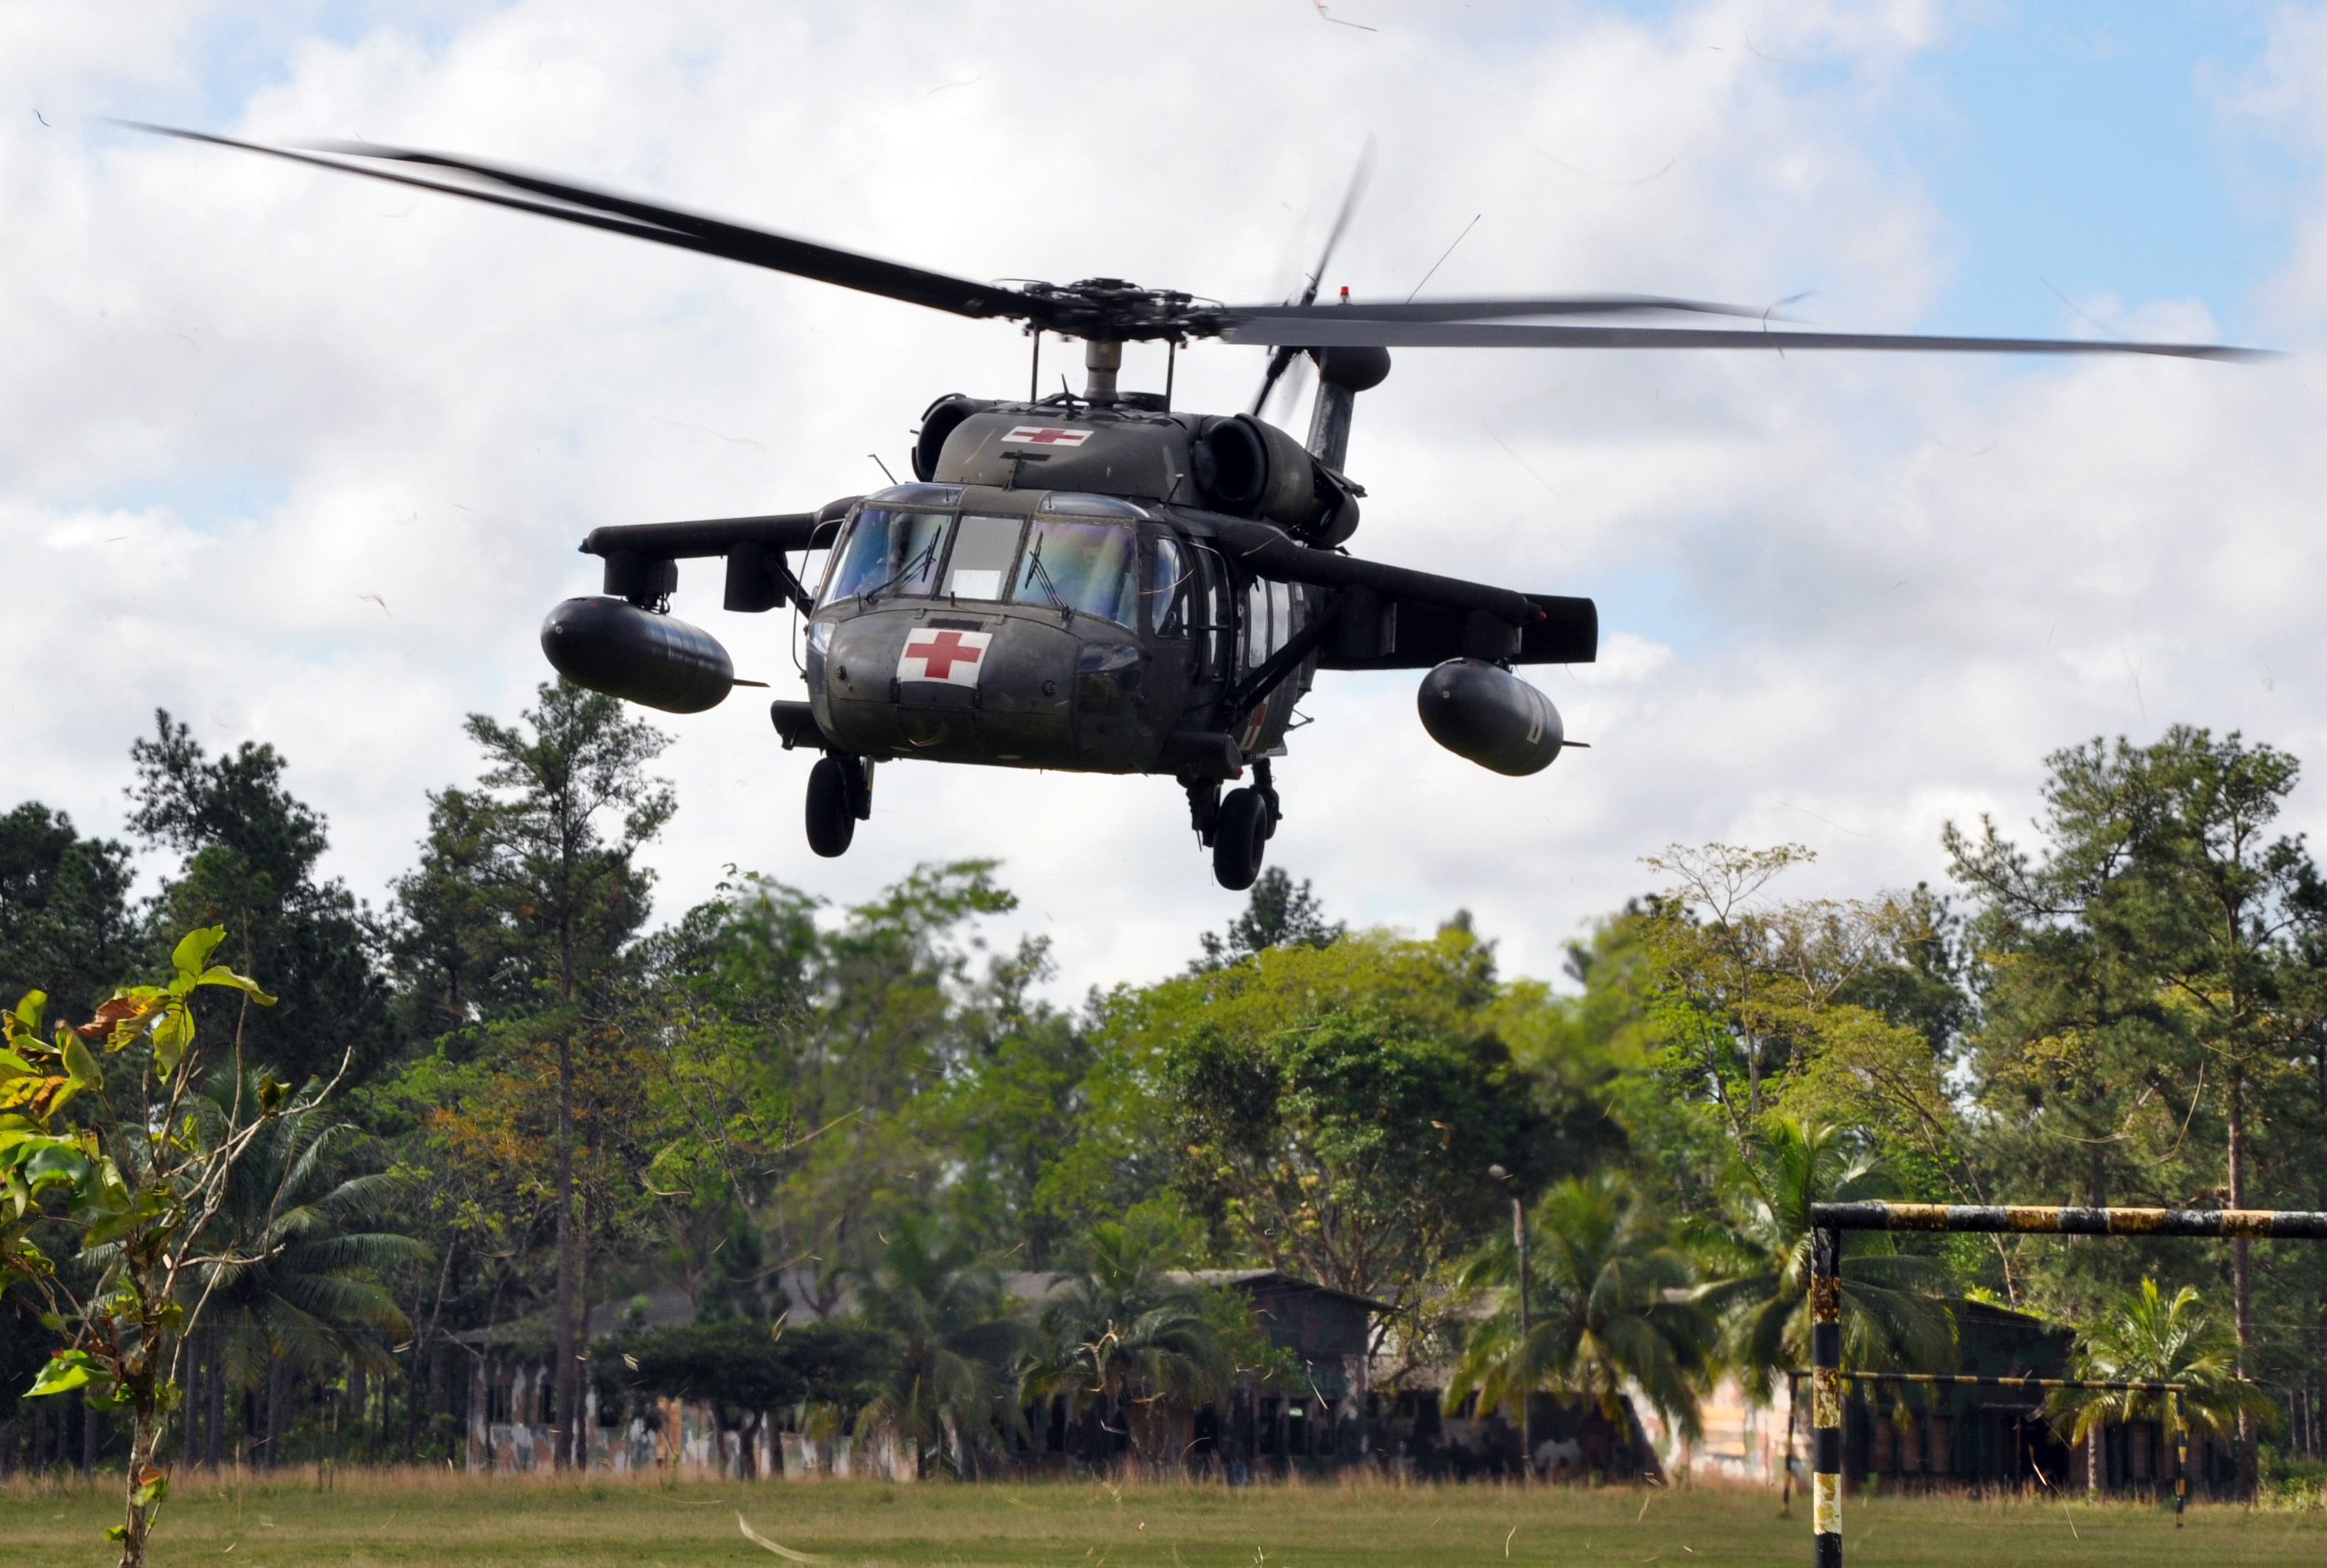MilitaryHelicopter: (548, 133, 1702, 980)
